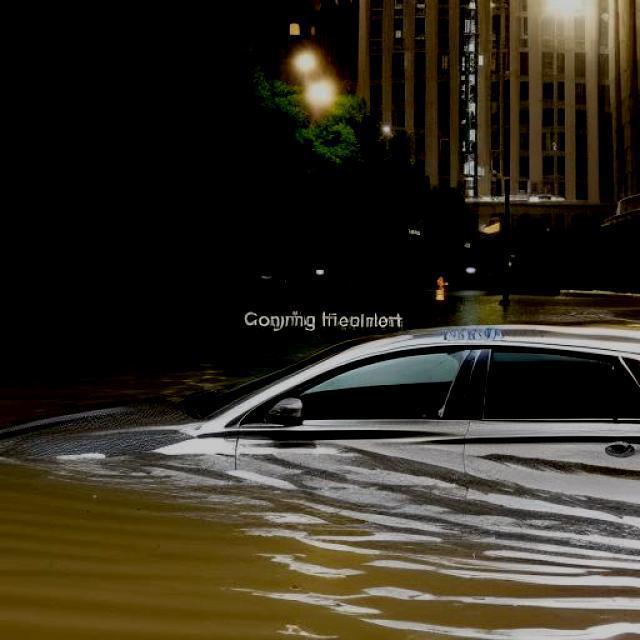water: (0, 294, 639, 638)
